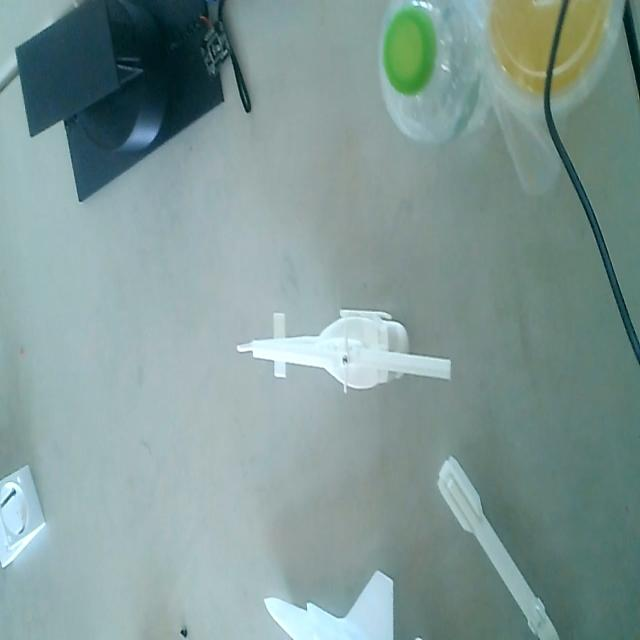Helicopter: (235, 302, 451, 406)
Rocket: (437, 449, 563, 640)
